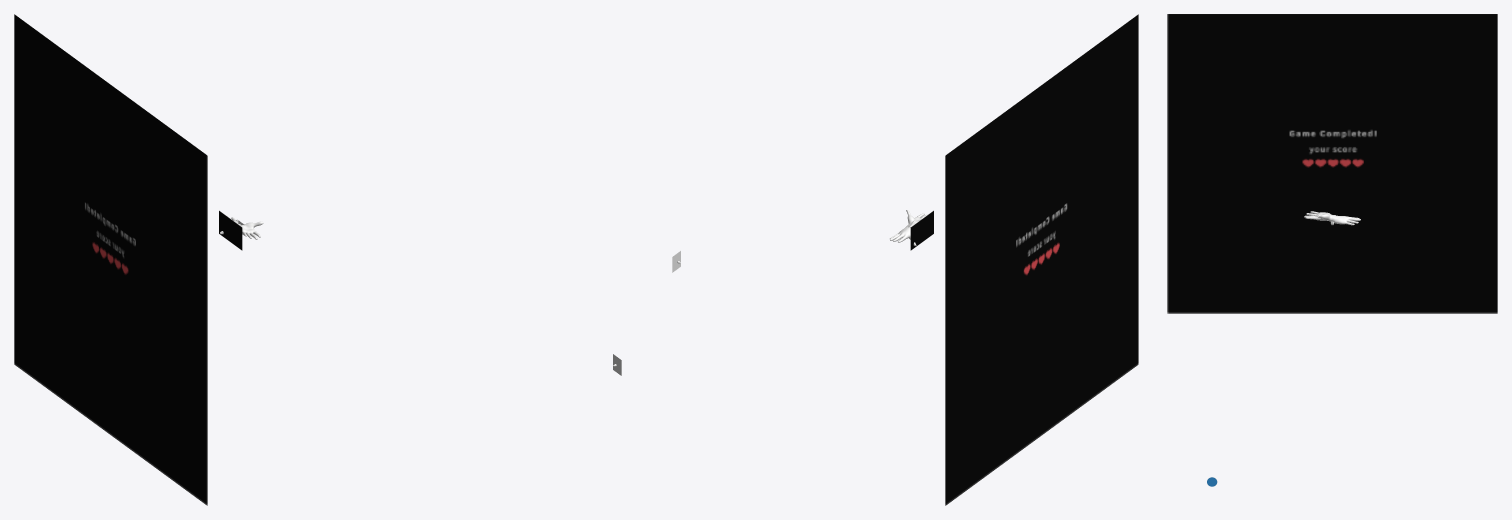
The picture shows the model from 3 angles, left to right: view 1: azimuth 30°, elevation 25°; view 2: azimuth 150°, elevation 25°; view 3: azimuth 270°, elevation 25°; orthographic projection. The views are drawn at different scales.
Parts seen in each view (by area): view 1: Canvas; view 2: Canvas, dip to black; view 3: Canvas, dip to black.
Boxes of the visible parts, bbox=[...] form: Canvas: bbox=[14, 14, 207, 505]; Canvas: bbox=[945, 14, 1138, 505]; dip to black: bbox=[910, 210, 933, 250]; Canvas: bbox=[1167, 14, 1497, 313]; dip to black: bbox=[1312, 203, 1352, 223].
Bounding box in the file's own units: 5 × 3.98 × 3.84.
Materials: 11 (6 with a texture image).
